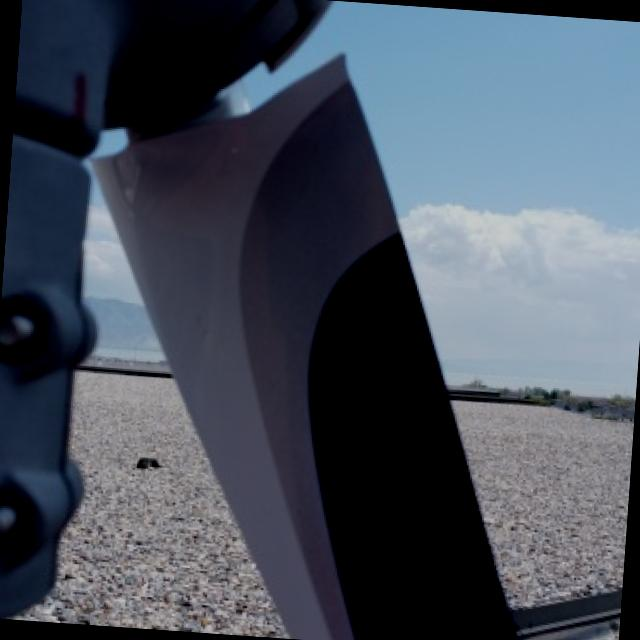healthy: (249, 0, 640, 225)
